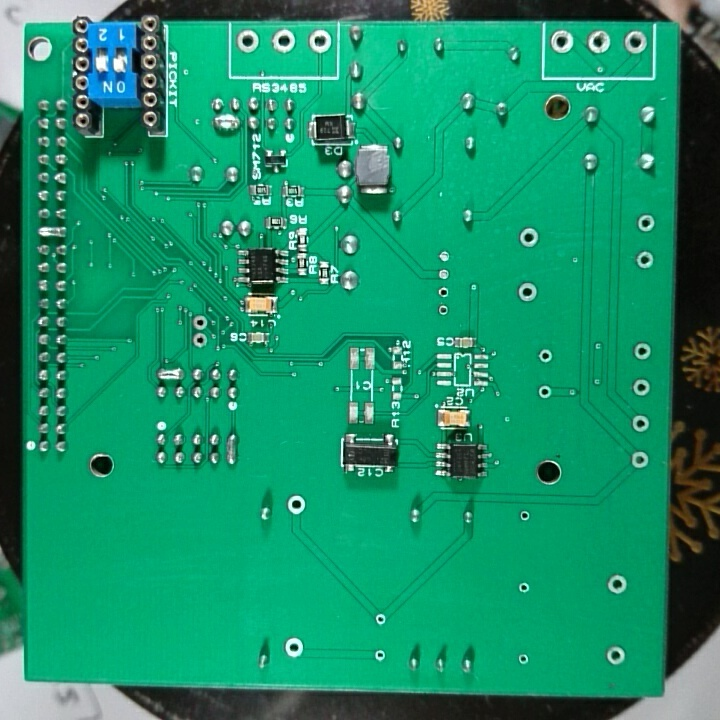F: (269, 27, 300, 56), (583, 28, 614, 57), (548, 28, 577, 58), (619, 27, 648, 57), (235, 26, 262, 57), (305, 29, 333, 55), (514, 280, 542, 306), (517, 226, 542, 252), (605, 573, 631, 598), (282, 635, 306, 662), (629, 375, 654, 400), (628, 446, 651, 473), (605, 642, 628, 668), (285, 492, 308, 518), (631, 340, 654, 363), (630, 412, 653, 435), (634, 212, 658, 234), (634, 250, 658, 270), (190, 331, 210, 351), (536, 346, 554, 368), (190, 312, 209, 332), (536, 382, 554, 403), (517, 504, 534, 526), (372, 610, 391, 629), (435, 265, 453, 285), (434, 249, 454, 267), (515, 649, 533, 668), (434, 283, 454, 300), (435, 300, 452, 319), (373, 646, 388, 665), (517, 580, 532, 598)
P: (210, 112, 242, 134), (225, 429, 240, 470), (35, 224, 71, 240), (155, 366, 183, 384)
